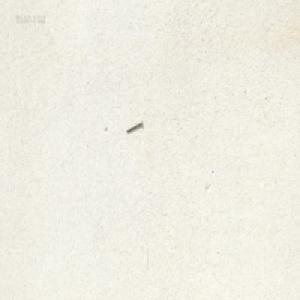Bolt: (125, 120, 141, 133)
